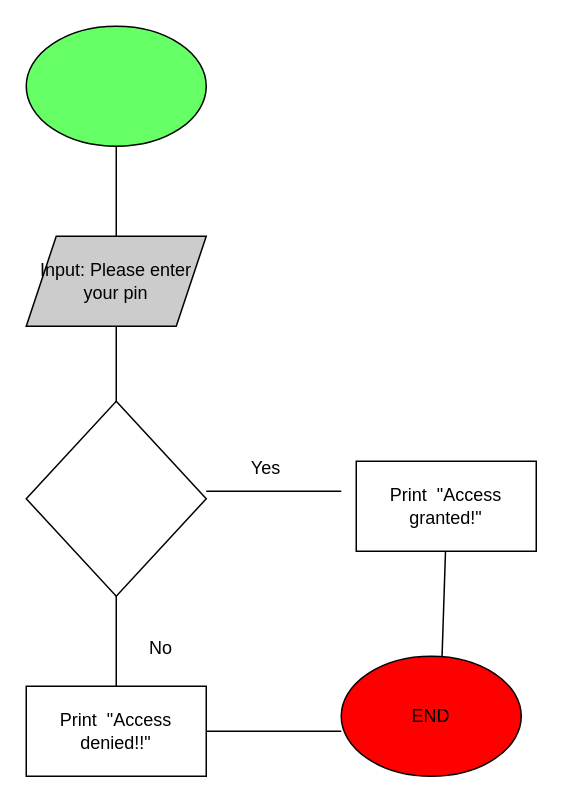
Image size: 563x803. Some labels were removed from this diagram. The box of each missing label's shape, as (x1, y1, x2, y2) in pixels:
BEGIN: (25, 25, 206, 146)
Is the password correct?: (25, 400, 206, 596)
